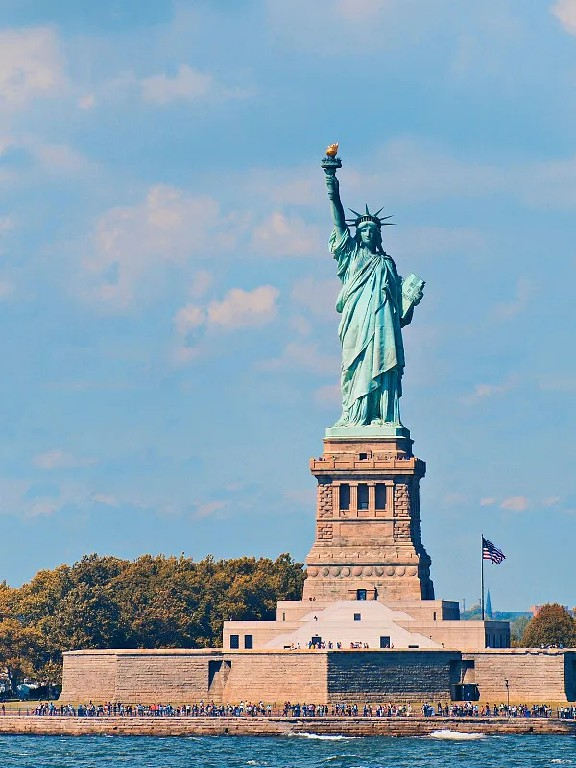SL: (302, 142, 435, 602)
